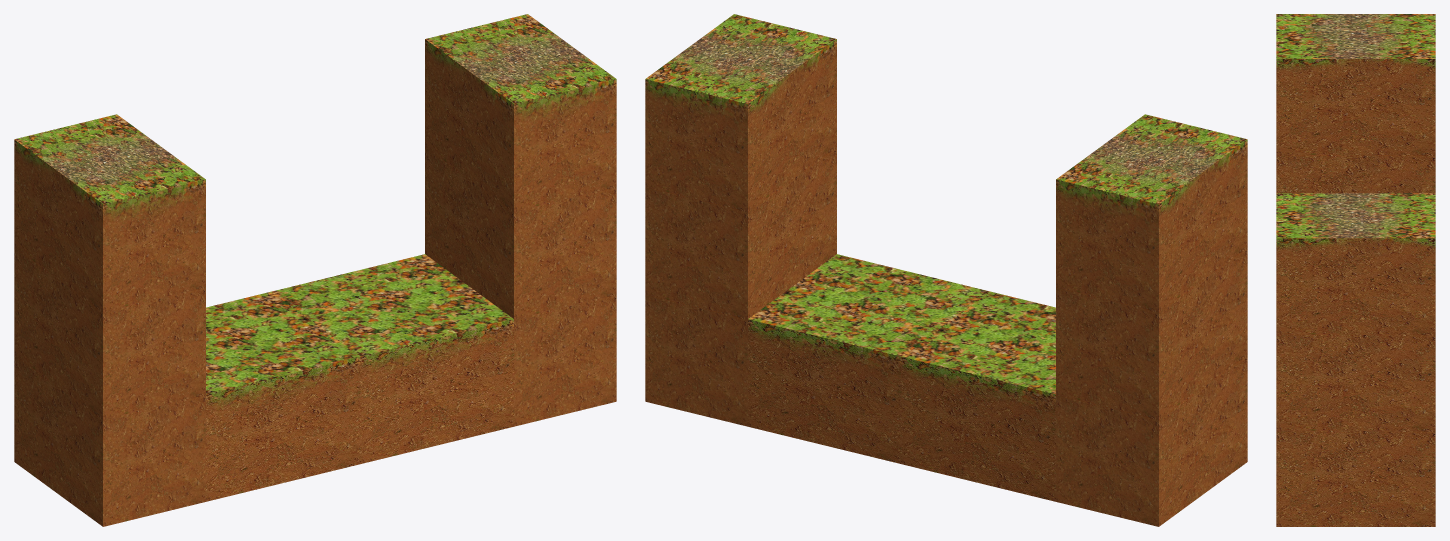
Rendered from Hole-3.fbx.
3 views of the same model, side by side, from view 1: azimuth 30°, elevation 25°; view 2: azimuth 150°, elevation 25°; view 3: azimuth 270°, elevation 25° (orthographic). The views are drawn at different scales.
Parts seen in each view (by area): view 1: Unit_Block13, Unit_Block1, Unit_Block6, Unit_Block2, Unit_Block5, Unit_Block3, Unit_Block8, Unit_Block7; view 2: Unit_Block13, Unit_Block1, Unit_Block6, Unit_Block2, Unit_Block5, Unit_Block3, Unit_Block8, Unit_Block7; view 3: Unit_Block6, Unit_Block1, Unit_Block7, Unit_Block8, Unit_Block5.
Part boxes in pixels (box(x1,y1,x2,y2)): Unit_Block13: box(271, 254, 513, 464); Unit_Block1: box(14, 114, 205, 311); Unit_Block6: box(425, 14, 616, 211); Unit_Block2: box(206, 291, 359, 501); Unit_Block5: box(14, 247, 205, 419); Unit_Block3: box(14, 355, 205, 526); Unit_Block8: box(425, 147, 616, 318); Unit_Block7: box(514, 294, 616, 426); Unit_Block13: box(748, 254, 990, 464); Unit_Block1: box(1056, 114, 1247, 311); Unit_Block6: box(645, 14, 836, 211); Unit_Block2: box(902, 291, 1055, 501); Unit_Block5: box(1056, 247, 1247, 419); Unit_Block3: box(1056, 355, 1247, 526); Unit_Block8: box(645, 147, 836, 318); Unit_Block7: box(645, 294, 747, 426); Unit_Block6: box(1276, 193, 1435, 334); Unit_Block1: box(1276, 14, 1435, 154); Unit_Block7: box(1276, 430, 1435, 526); Unit_Block8: box(1276, 334, 1435, 430); Unit_Block5: box(1276, 155, 1435, 193).
Size of the model in its own units: 10 by 6 by 3.
